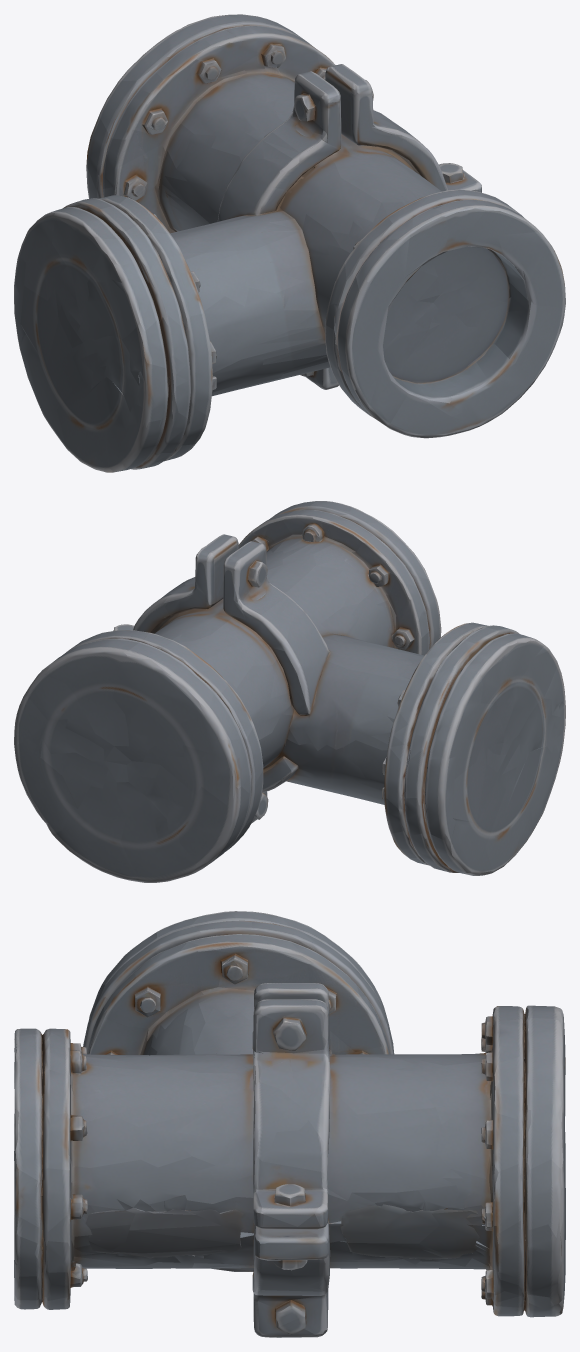
File: flangia_tubo.glb
The picture shows the model from 3 angles, top to bottom: view 1: azimuth 30°, elevation 25°; view 2: azimuth 150°, elevation 25°; view 3: azimuth 270°, elevation 25°; orthographic projection. The views are drawn at different scales.
Parts seen in each view (by area): view 1: Mesh_0; view 2: Mesh_0; view 3: Mesh_0.
Boxes of the visible parts, left/top/right/bottom form: Mesh_0: left=14, top=14, right=565, bottom=472; Mesh_0: left=14, top=501, right=565, bottom=882; Mesh_0: left=14, top=911, right=565, bottom=1337.
Bounding box in the file's own units: 1.84 × 1.29 × 1.9.
1 material, 1 textured.
